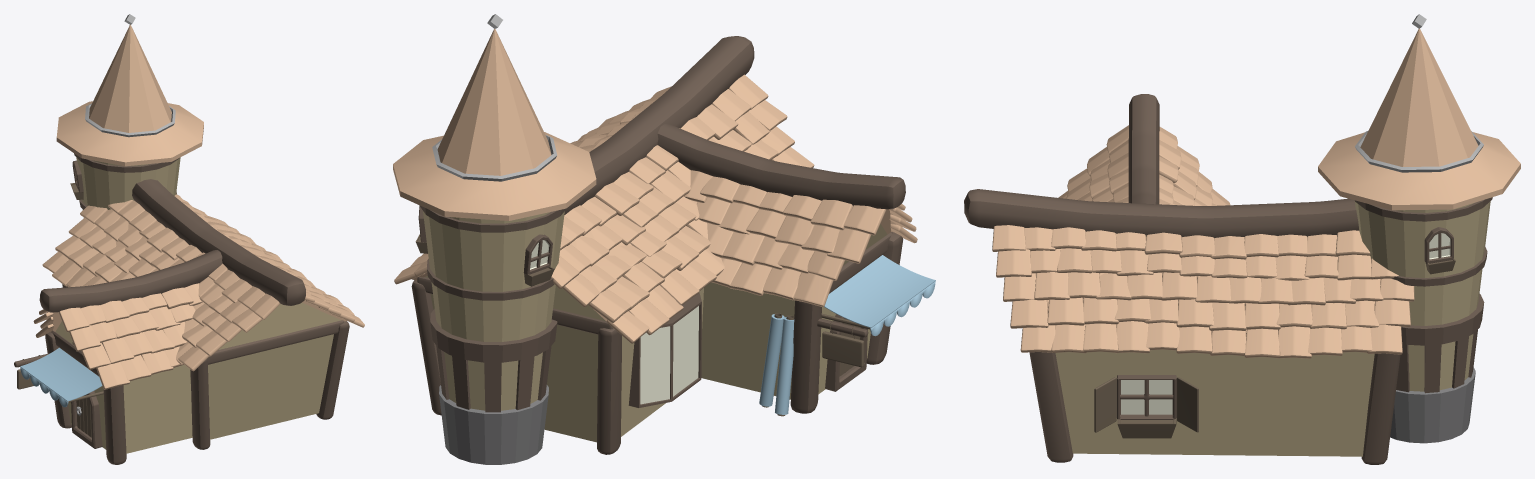
The model's file is DevlinHuis.fbx.
3 renders of one model, left to right at view 1: azimuth 30°, elevation 25°; view 2: azimuth 150°, elevation 25°; view 3: azimuth 270°, elevation 25°, orthographic. The views are drawn at different scales.
Visible parts, largest first — view 1: polySurface1460; view 2: polySurface1460; view 3: polySurface1460.
Boxes of the visible parts, bbox=[...] form: polySurface1460: bbox=[14, 14, 364, 464]; polySurface1460: bbox=[393, 14, 935, 464]; polySurface1460: bbox=[964, 14, 1520, 464].
Size of the model in its own units: 6.52 by 7.05 by 8.58.
